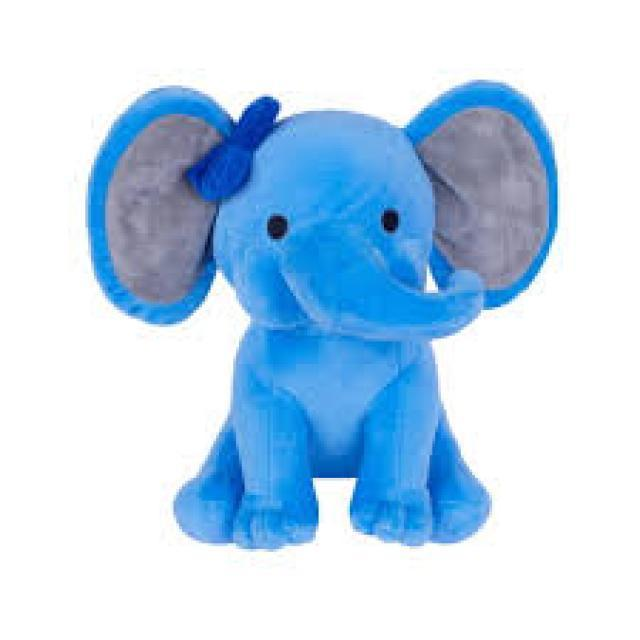soft-toy: (88, 82, 556, 548)
